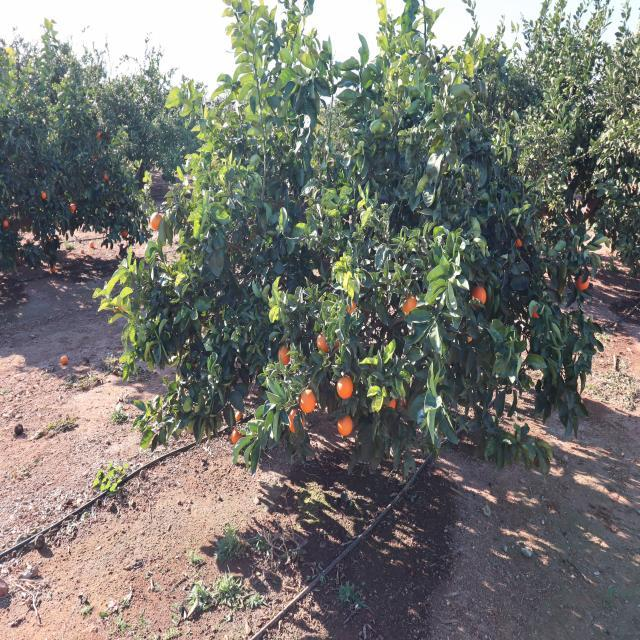Jeruk Sudah Matang: (398, 291, 422, 315), (288, 408, 306, 438), (336, 378, 357, 402), (467, 286, 490, 306), (315, 331, 332, 358), (336, 416, 354, 439), (300, 392, 316, 414), (278, 344, 292, 368), (344, 300, 359, 320), (528, 304, 544, 322), (150, 214, 166, 232), (577, 274, 590, 296), (228, 428, 242, 446), (514, 236, 530, 250)
